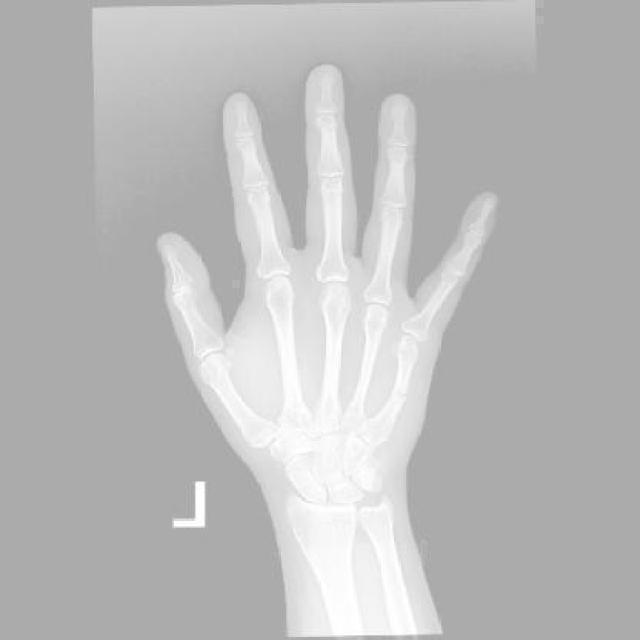bone: (392, 384, 411, 402)
